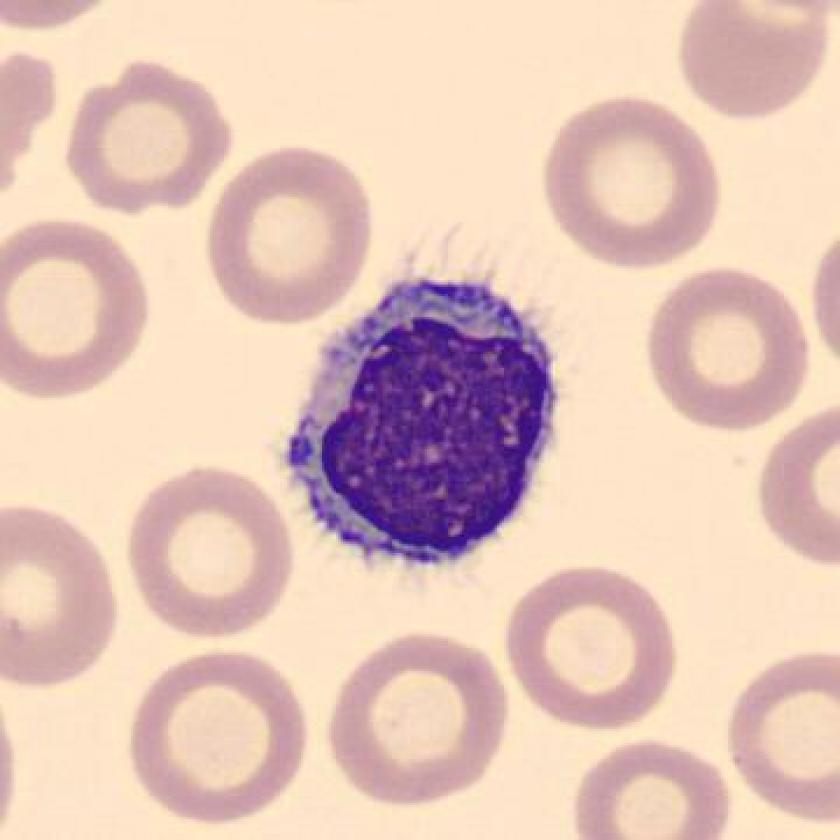lymphocyte: (262, 260, 575, 582)
